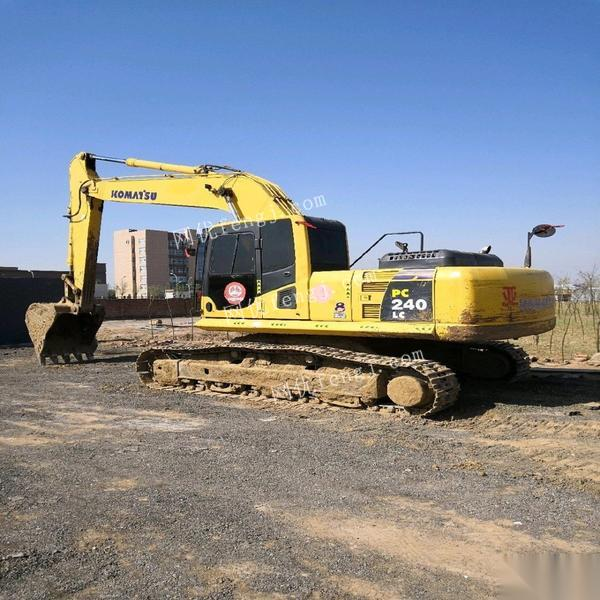excavator: (20, 141, 566, 428)
